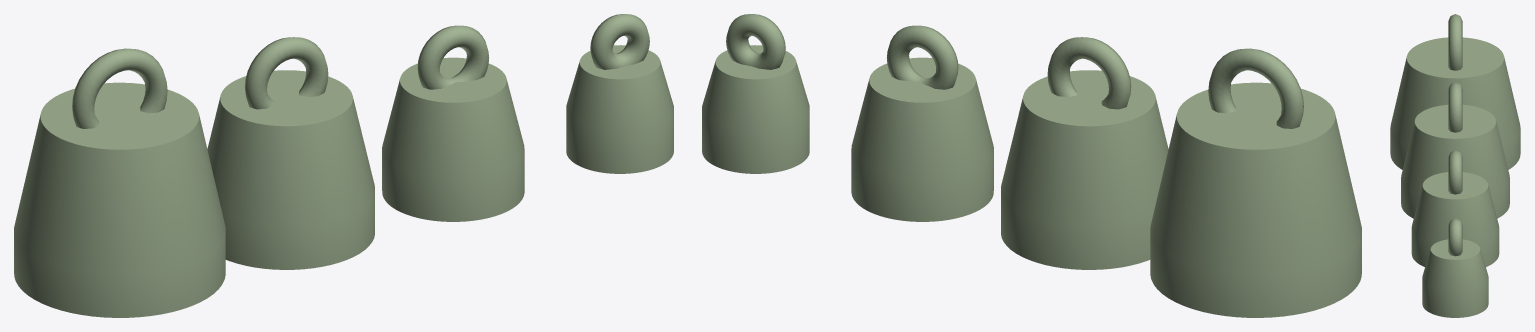
The model's file is desert-caravanserai-and-bazaar-nested-trade-weights-2ed644d1__30465.glb.
3 renders of one model, left to right at view 1: azimuth 30°, elevation 25°; view 2: azimuth 150°, elevation 25°; view 3: azimuth 270°, elevation 25°, orthographic. The views are drawn at different scales.
Visible parts, largest first — view 1: nested-trade-weights; view 2: nested-trade-weights; view 3: nested-trade-weights.
Boxes of the visible parts, <box> form: nested-trade-weights: <box>14,14,673,317</box>; nested-trade-weights: <box>702,14,1361,317</box>; nested-trade-weights: <box>1390,14,1520,317</box>.
Size of the model in its own units: 0.383 by 0.128 by 0.11.
